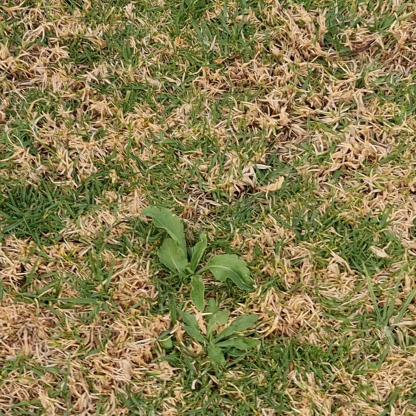Weeds: (143, 205, 254, 314), (173, 298, 260, 370)
